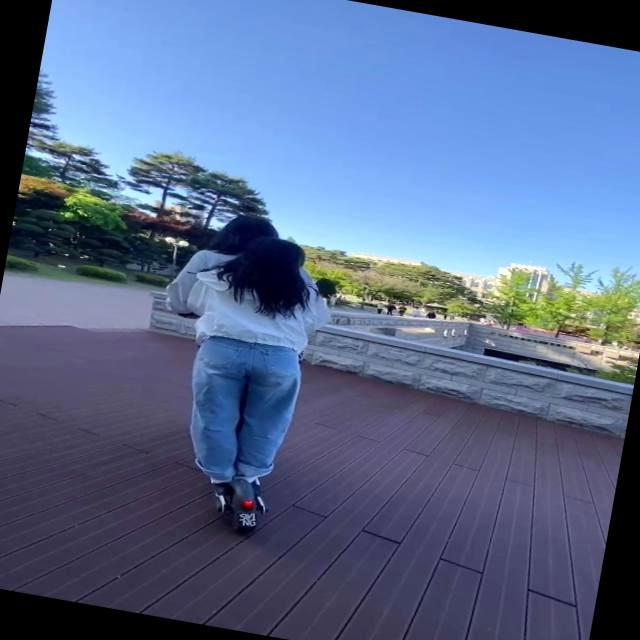bare_head: (236, 233, 305, 284), (217, 212, 277, 258)
human: (181, 216, 312, 469), (186, 243, 319, 479)
kickboard: (186, 453, 280, 543)
